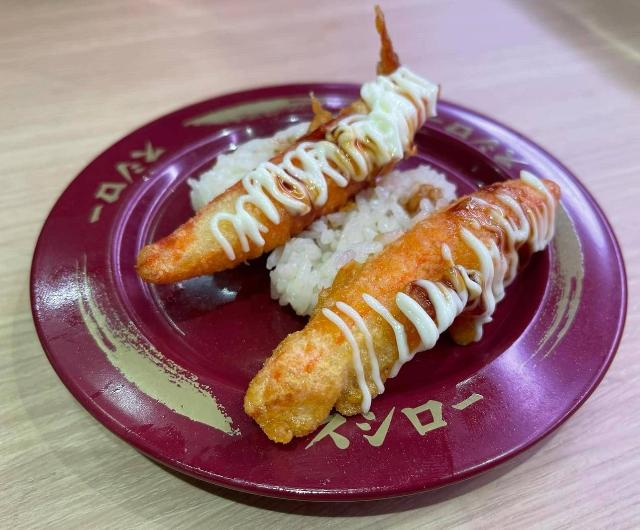janred: (52, 48, 598, 479)
